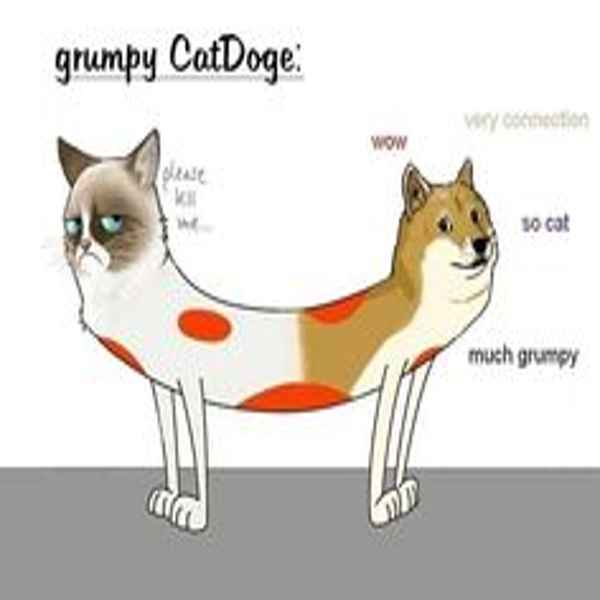doge: (391, 163, 509, 291)
